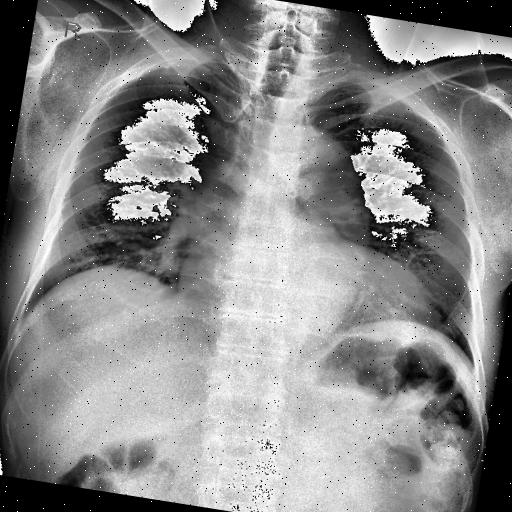0- Aortic enlargement: (244, 120, 386, 245), (255, 119, 379, 224), (268, 125, 377, 218)
3- Cardiomegaly: (166, 246, 438, 370), (175, 236, 443, 332), (169, 260, 434, 348)
